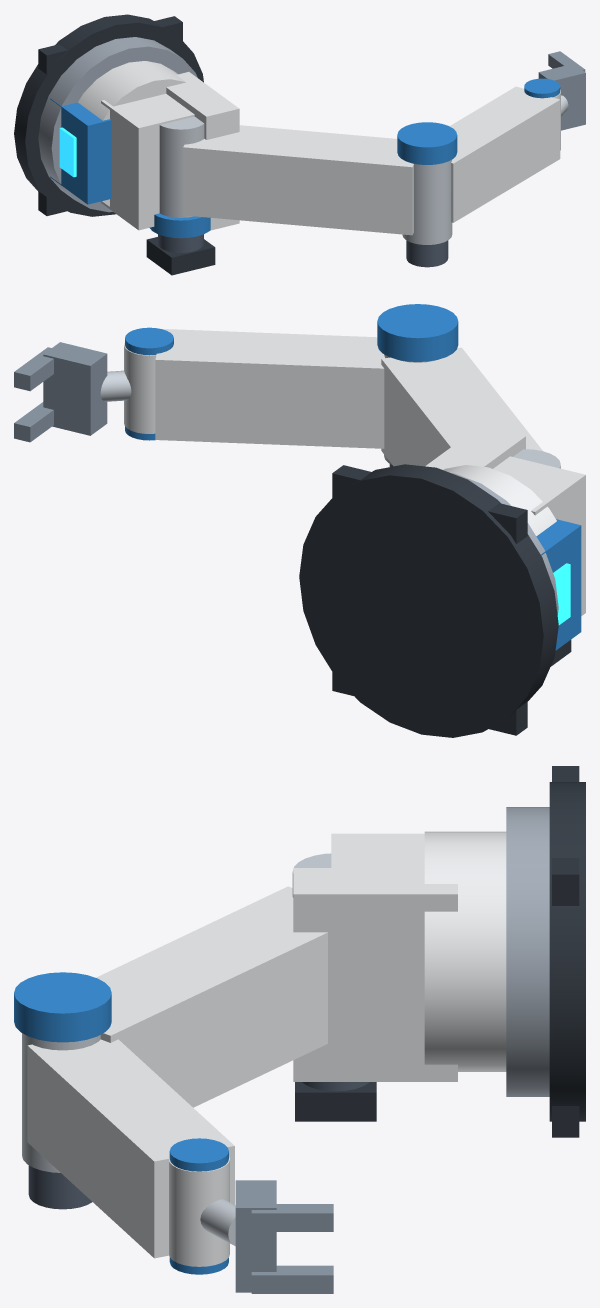
The model's file is robot.glb.
3 renders of one model, top to bottom at view 1: azimuth 30°, elevation 25°; view 2: azimuth 150°, elevation 25°; view 3: azimuth 270°, elevation 25°, orthographic. The views are drawn at different scales.
Parts seen in each view (by area): view 1: RS_upper-arm-cover, RS_base, RS_turntable, RS_forearm-cover, RS_elbow-joint, RS_controller, RS_shoulder-joint, RS_shoulder-motor, RS_tool, RS_elbow-motor, RS_wrist; view 2: RS_base, RS_forearm-cover, RS_upper-arm-cover, RS_turntable, RS_tool, RS_elbow-joint, RS_controller, RS_wrist; view 3: RS_turntable, RS_upper-arm-cover, RS_forearm-cover, RS_base, RS_tool, RS_elbow-joint, RS_wrist, RS_shoulder-motor, RS_elbow-motor.
Part boxes in pixels (x1,y1,x2,y2): RS_upper-arm-cover: [183, 125, 413, 235]; RS_base: [14, 14, 203, 216]; RS_turntable: [78, 61, 239, 230]; RS_forearm-cover: [449, 86, 560, 222]; RS_elbow-joint: [397, 122, 457, 244]; RS_controller: [50, 98, 111, 204]; RS_shoulder-joint: [149, 116, 210, 238]; RS_shoulder-motor: [146, 234, 215, 275]; RS_tool: [538, 51, 585, 130]; RS_elbow-motor: [406, 240, 448, 267]; RS_wrist: [524, 78, 568, 115]; RS_base: [299, 464, 558, 737]; RS_forearm-cover: [124, 329, 384, 448]; RS_upper-arm-cover: [381, 347, 542, 466]; RS_turntable: [425, 425, 585, 615]; RS_tool: [14, 342, 107, 442]; RS_elbow-joint: [377, 304, 458, 464]; RS_controller: [536, 519, 581, 650]; RS_wrist: [100, 327, 173, 440]; RS_turntable: [293, 831, 506, 1081]; RS_upper-arm-cover: [96, 886, 327, 1107]; RS_forearm-cover: [27, 1039, 234, 1266]; RS_base: [506, 766, 585, 1137]; RS_tool: [235, 1180, 333, 1293]; RS_elbow-joint: [14, 972, 111, 1172]; RS_wrist: [169, 1138, 235, 1274]; RS_shoulder-motor: [295, 1082, 376, 1121]; RS_elbow-motor: [28, 1165, 91, 1209].
Bounding box in the file's own units: 7.78 × 3 × 5.03.
